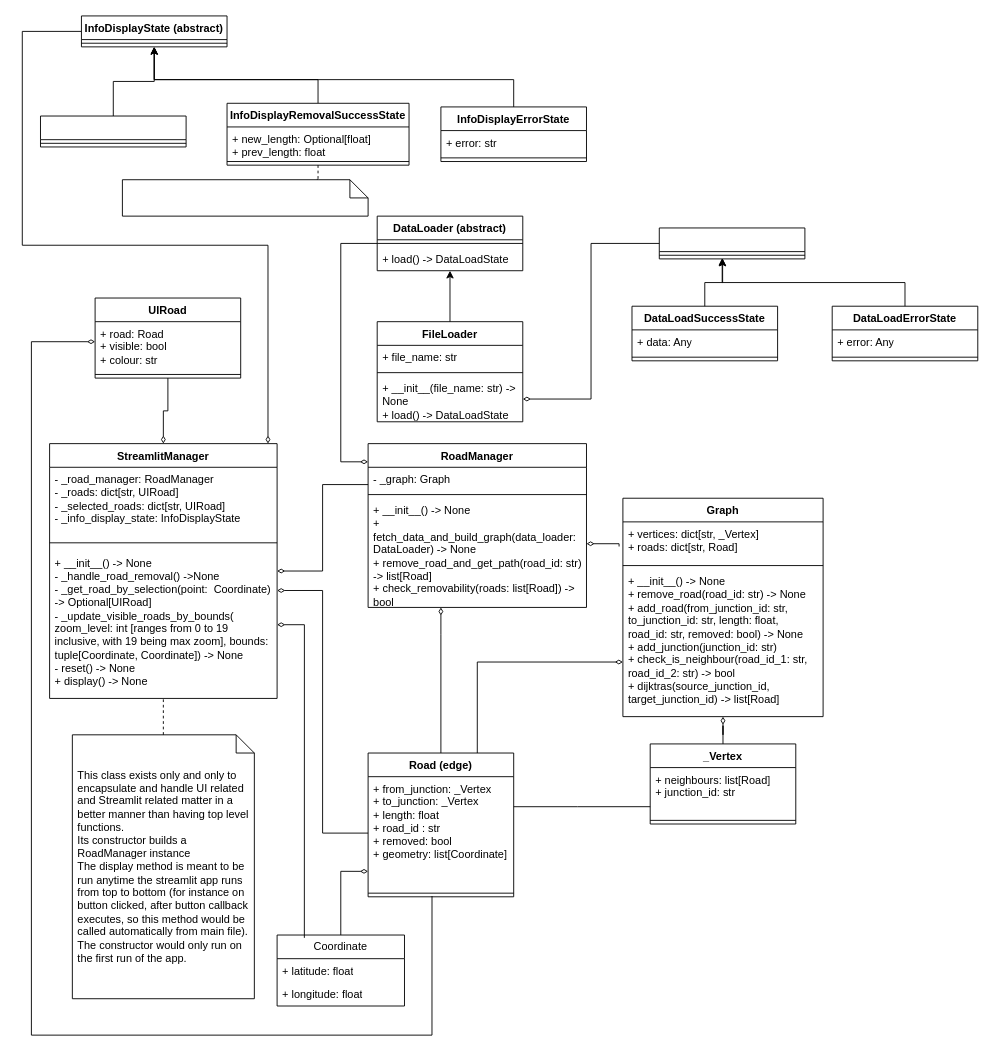
Image size: 994x1058. Some labels were removed from this diagram. The centre of each missing label's shape, as x and y in pixels:
DataLoadState (abstract): (731,243)
InfoDisplayInitState: (113,131)
new_length would be None incase the two vertices get disconnected.: (244,197)
